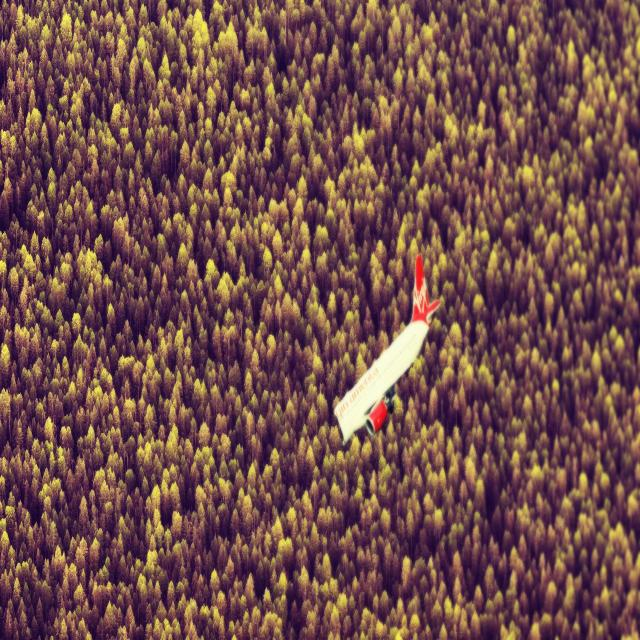airplane: (333, 252, 440, 446)
